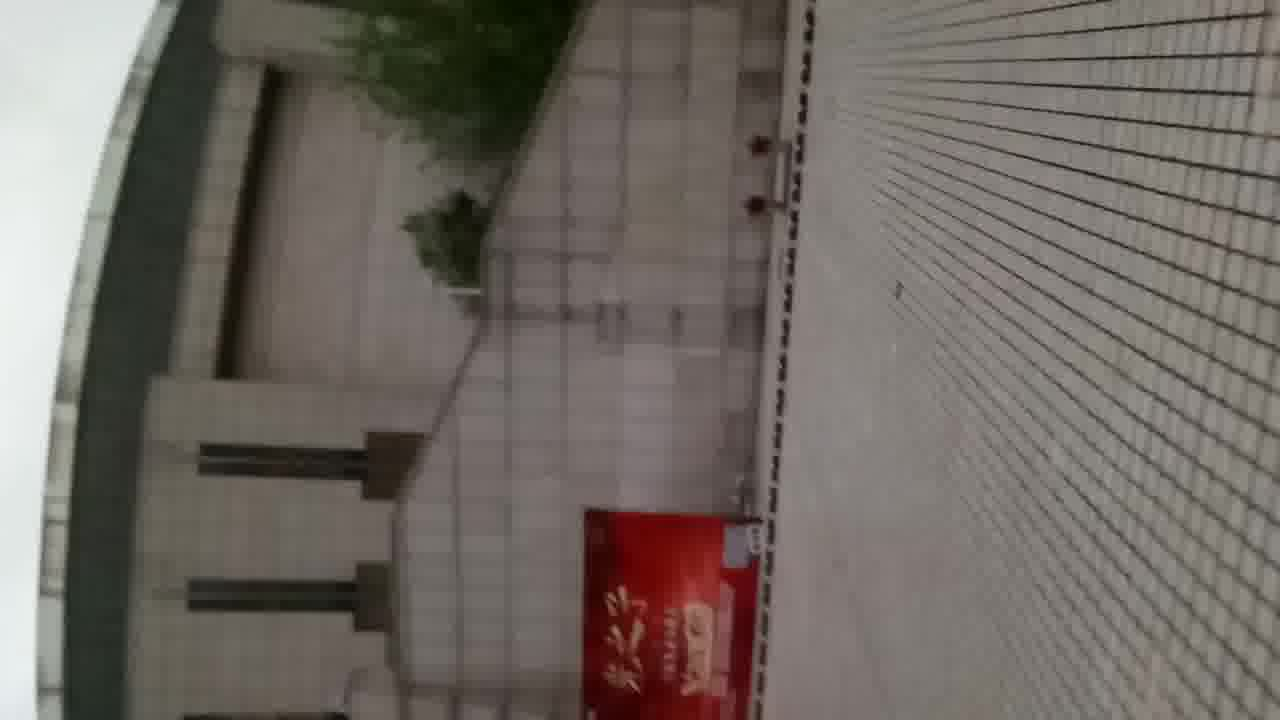zhongtiww: (26, 8, 808, 720)
